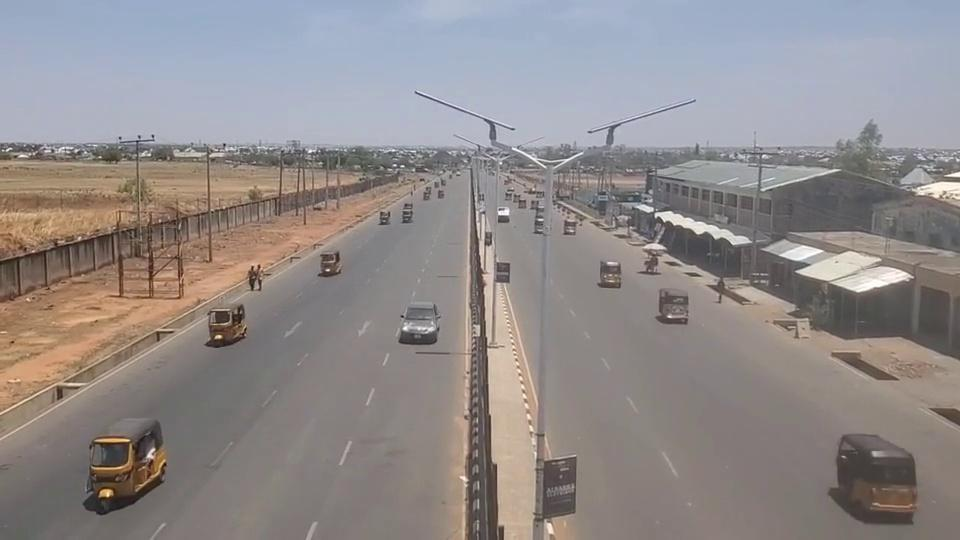car: (398, 301, 442, 343), (497, 206, 510, 222)
keke: (834, 432, 918, 520), (84, 416, 167, 504), (206, 302, 247, 345), (658, 288, 690, 324), (599, 260, 622, 287), (320, 250, 342, 276), (563, 219, 577, 235), (534, 214, 545, 233), (379, 210, 391, 225)
